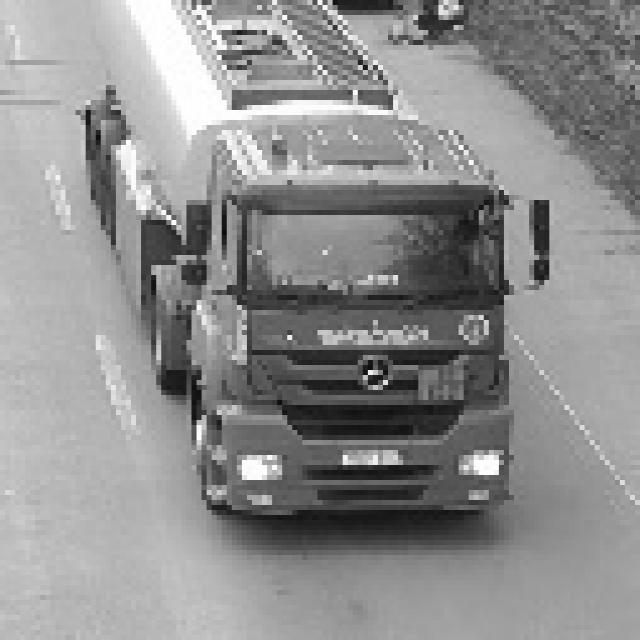truck: (162, 103, 551, 526)
